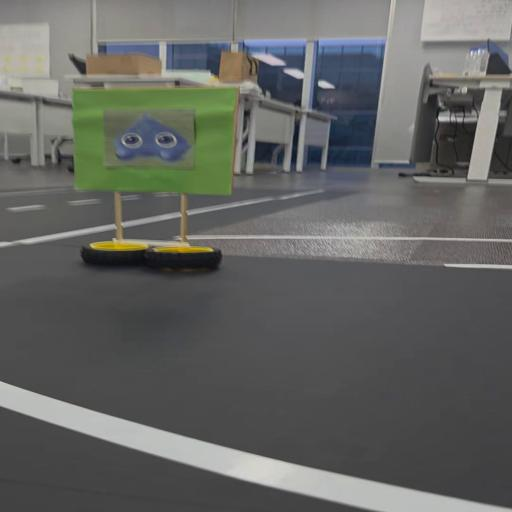Sign_B: (64, 84, 244, 281)
